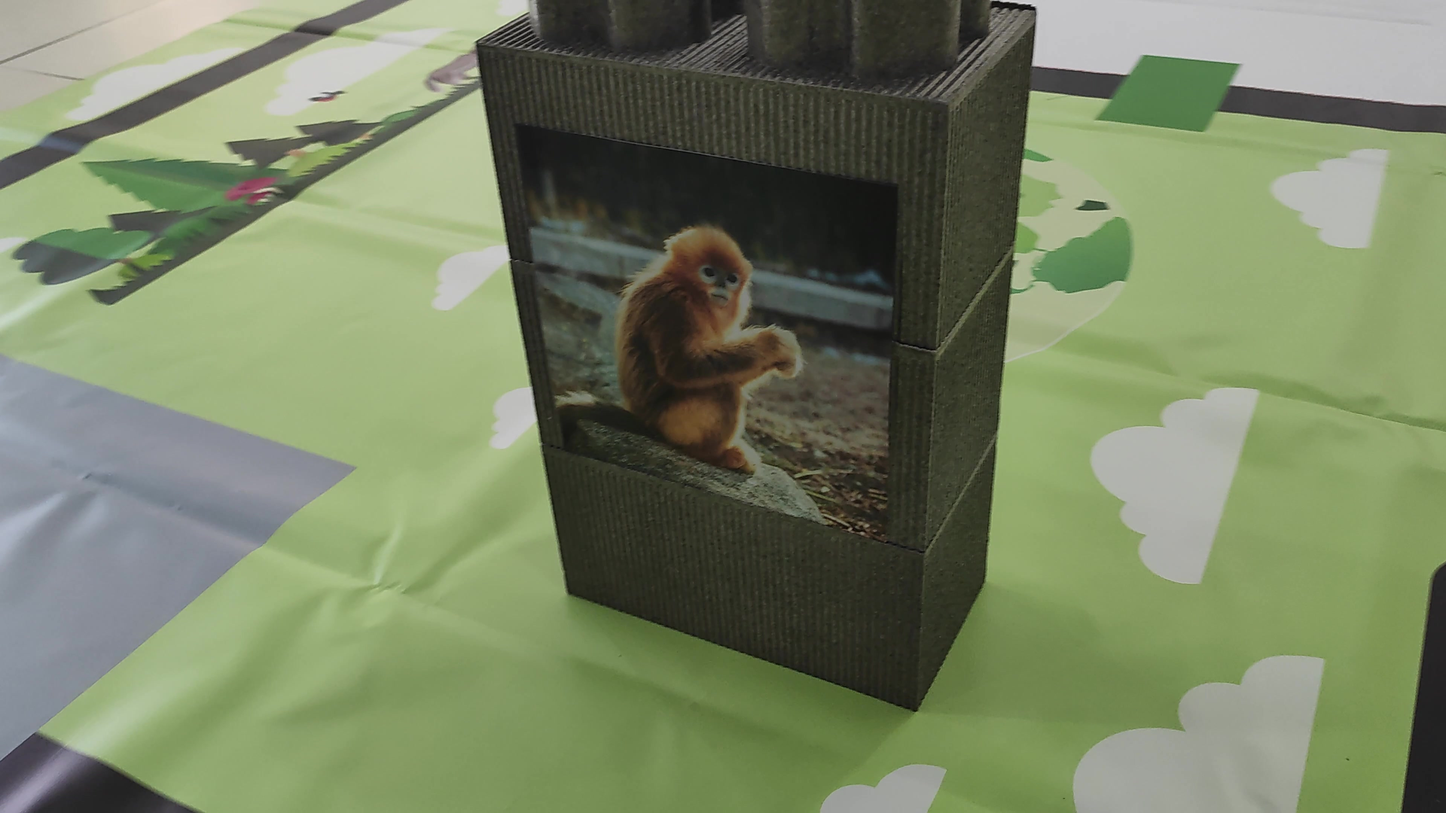monkey: (581, 166, 842, 487)
